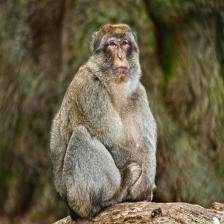monkey: (56, 23, 155, 224)
